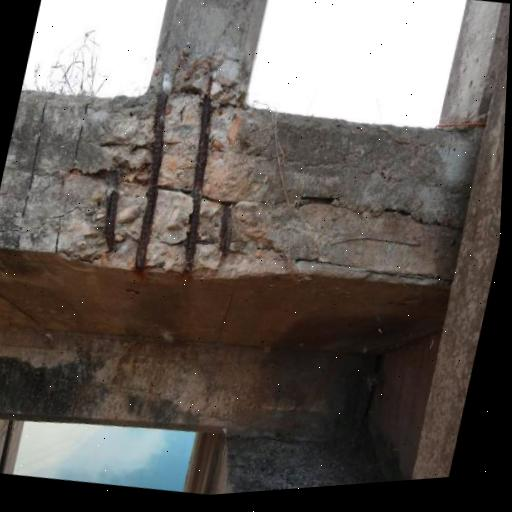exposed_rebar: (135, 73, 171, 267), (184, 78, 211, 273), (105, 189, 119, 248), (218, 205, 232, 255)
